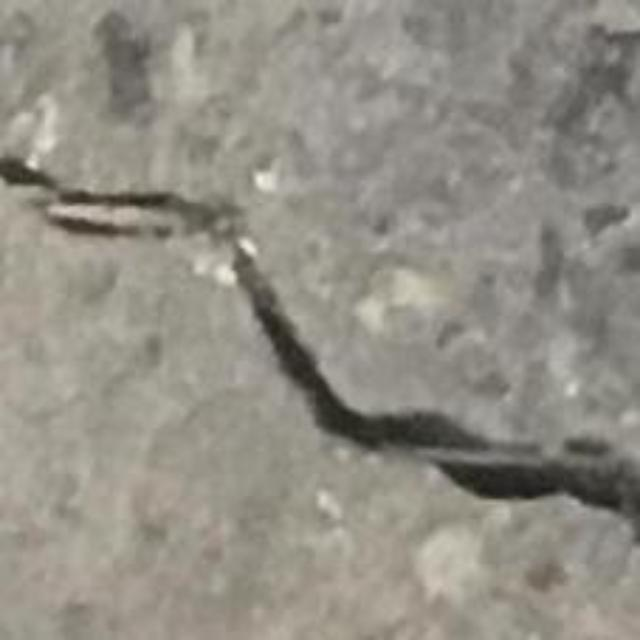crack: (0, 156, 639, 541)
